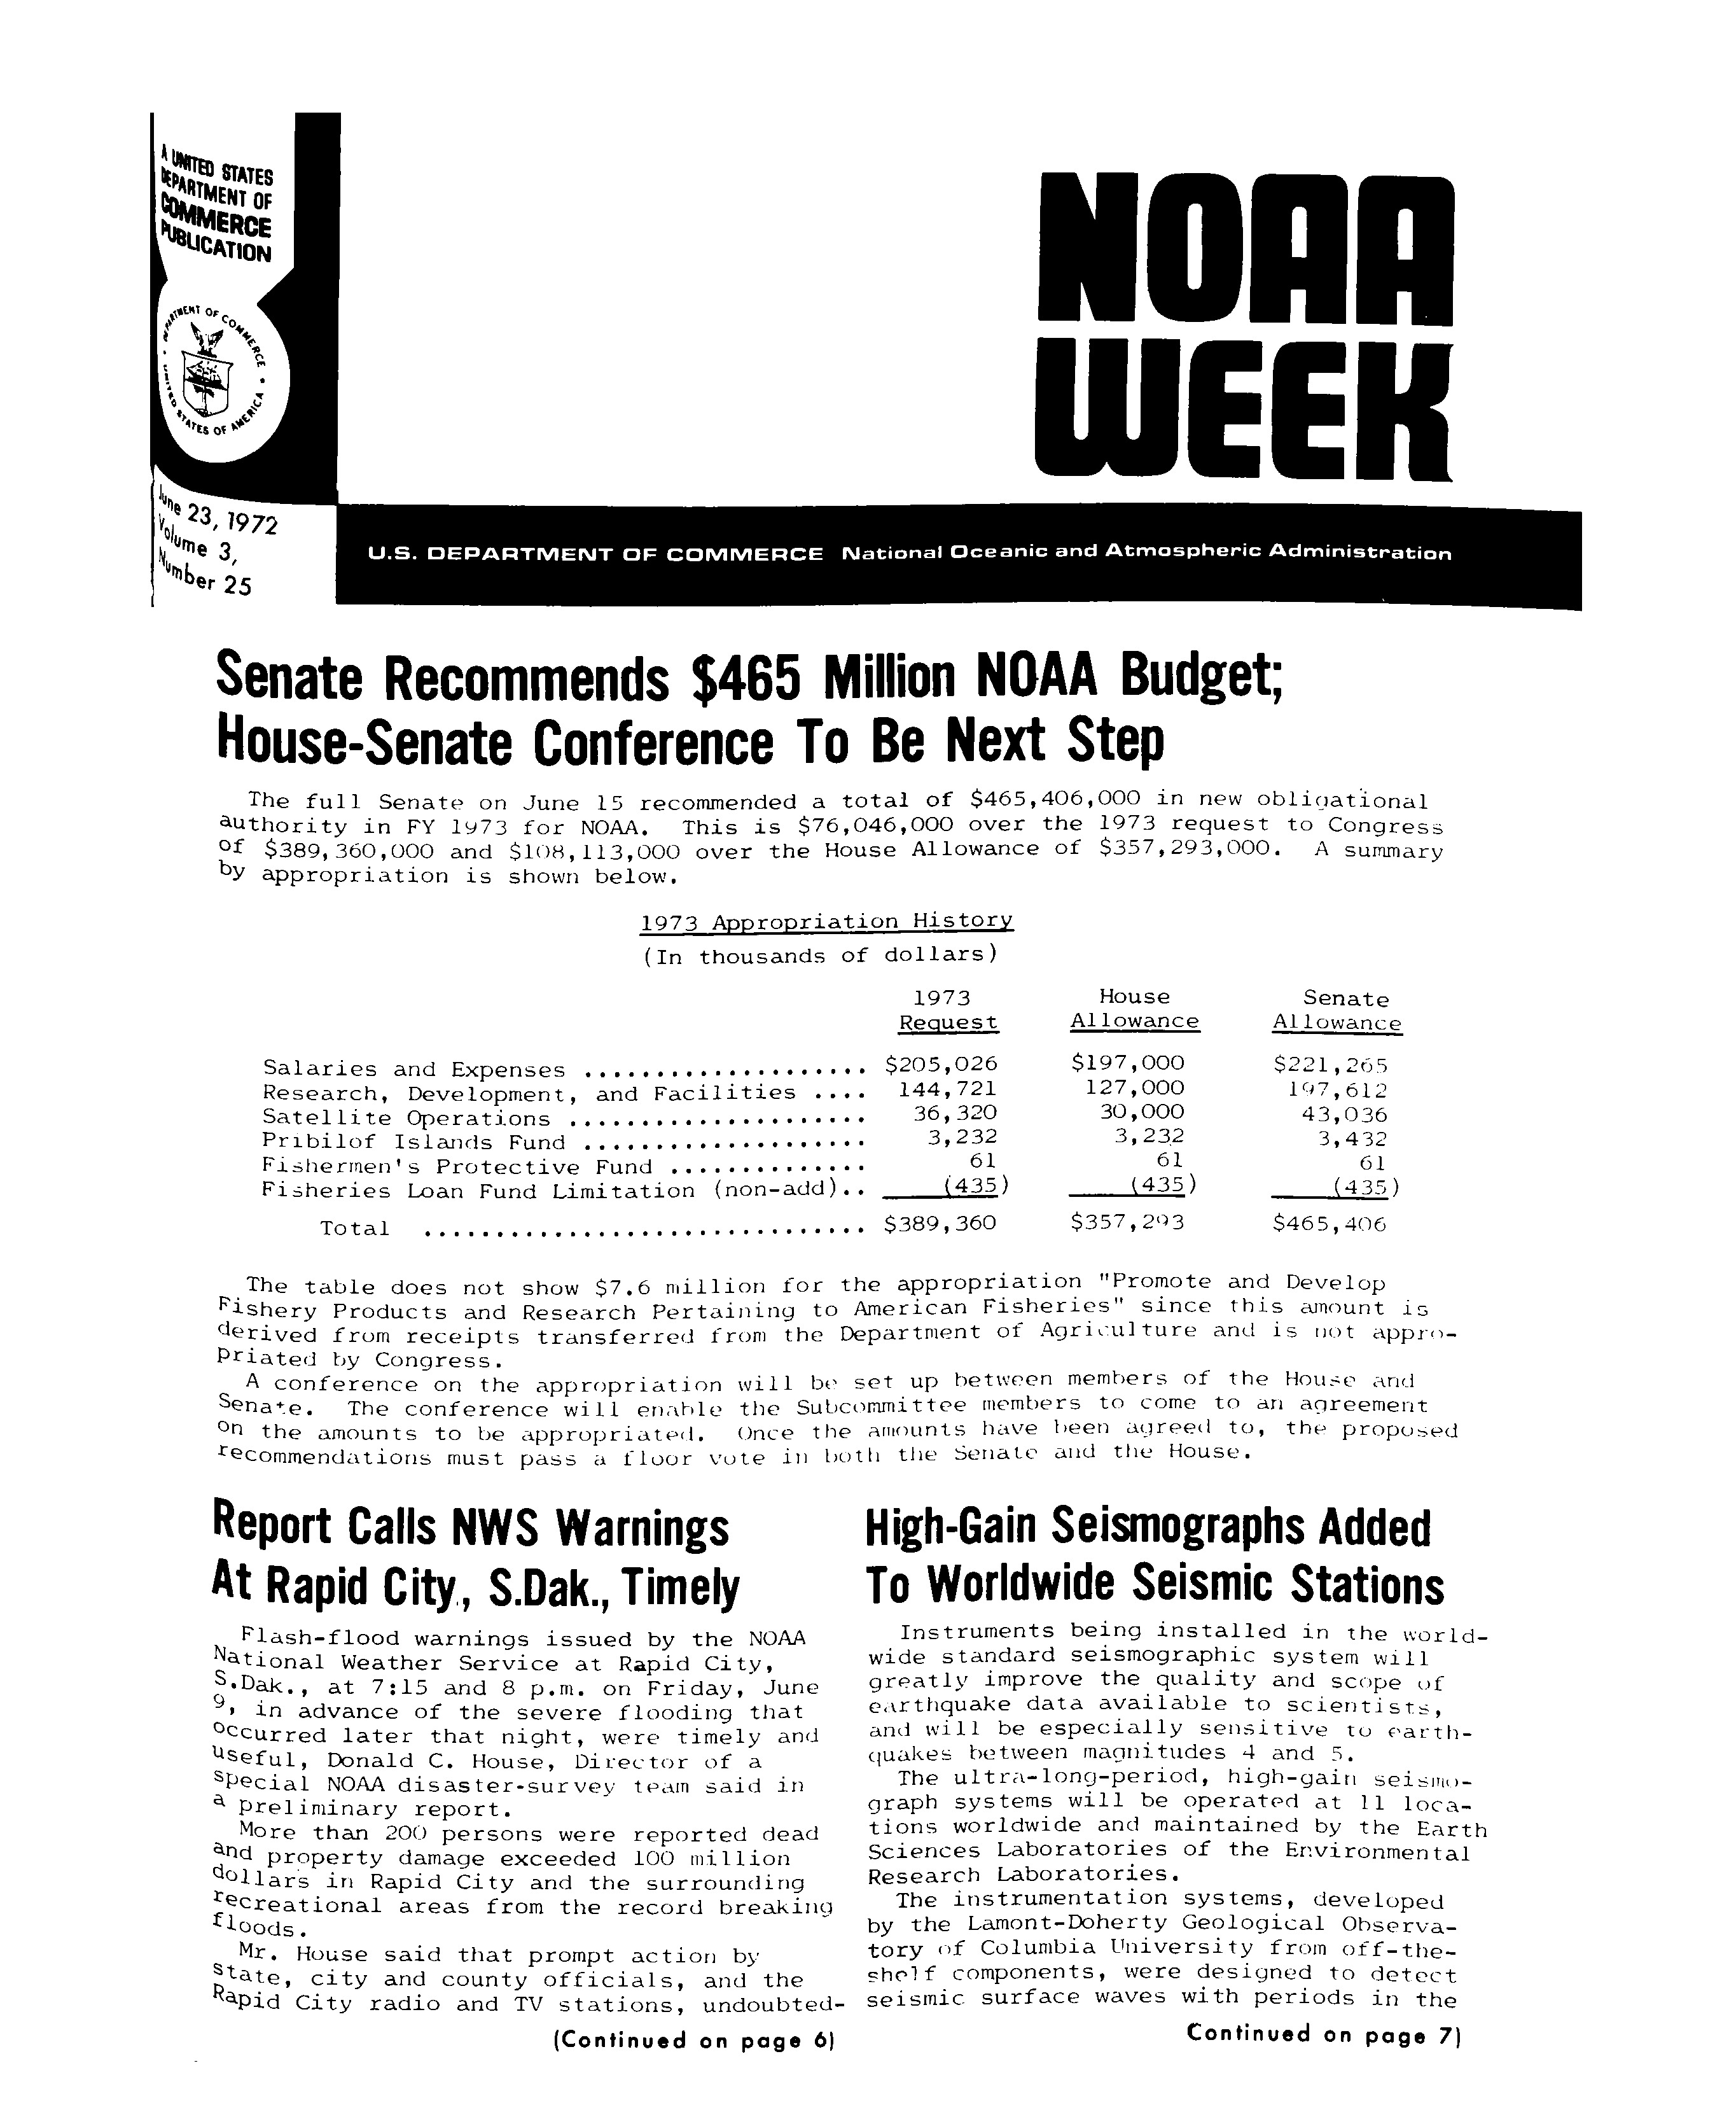figure: (146, 293, 289, 455)
section: (1023, 171, 1459, 483), (221, 646, 1283, 771), (861, 1503, 1455, 1605), (208, 1501, 739, 1609)
table: (252, 986, 1418, 1238)
text: (215, 785, 1441, 893), (224, 1270, 1455, 1369), (206, 1628, 820, 1822), (215, 1381, 1463, 1473), (870, 1619, 1487, 1768), (866, 1884, 1471, 2009), (215, 1831, 842, 1941), (864, 1771, 1494, 1875), (356, 527, 1459, 573), (206, 1944, 857, 2018), (633, 907, 1027, 967), (146, 487, 289, 609), (155, 141, 273, 265), (554, 2027, 836, 2055), (1189, 2018, 1463, 2046)
